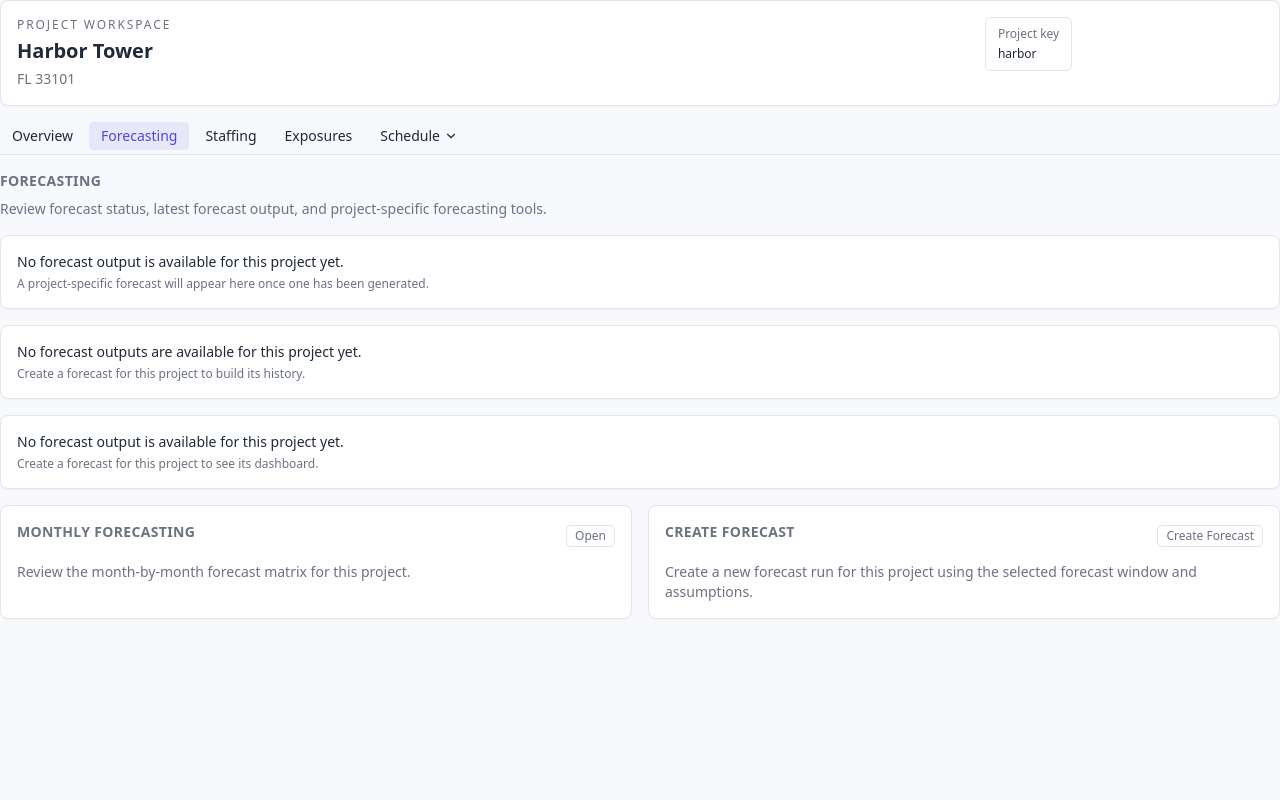
Test: Project forecast creation › renders a Create Forecast entry point and opens a project-scoped modal on click
Expected: the heading "Create Forecast" is shown, [665,522,795,542]
Expected: the text "Create a new forecast run for this project using the selected forecast window and assumptions." is shown, [665,562,1197,601]
Click the button "Create Forecast": (1210, 536) [1157,525,1263,547]
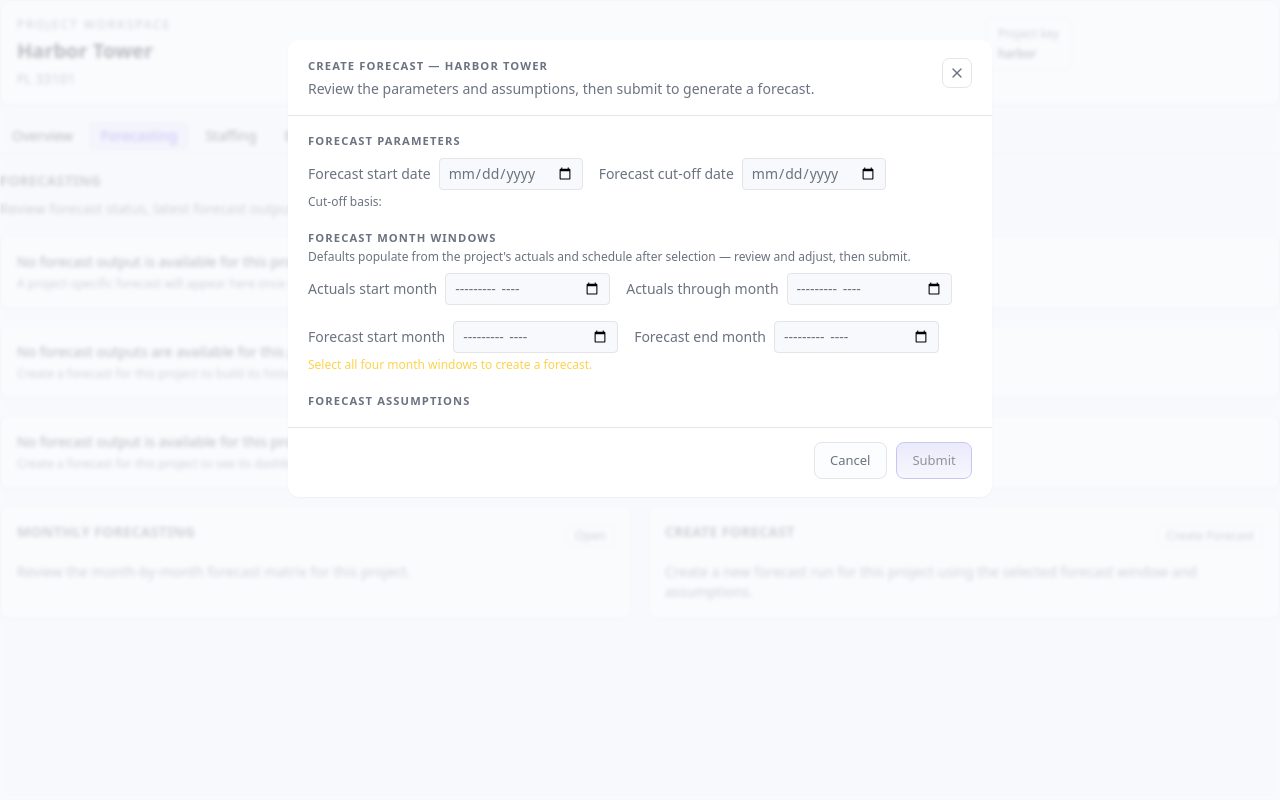
Expected: the heading "Create forecast — Harbor Tower" is shown, [308,58,548,73]
